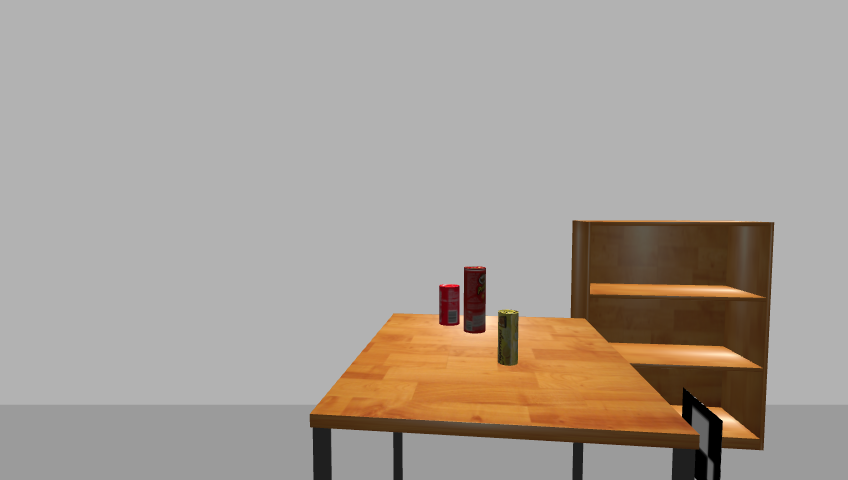aruco marker: (677, 388, 726, 480)
biscuits pack: (498, 310, 520, 367)
bookshelf: (566, 217, 781, 459)
coke can: (436, 283, 461, 328)
dinner table: (305, 310, 703, 480)
pringles can: (461, 265, 488, 335)
